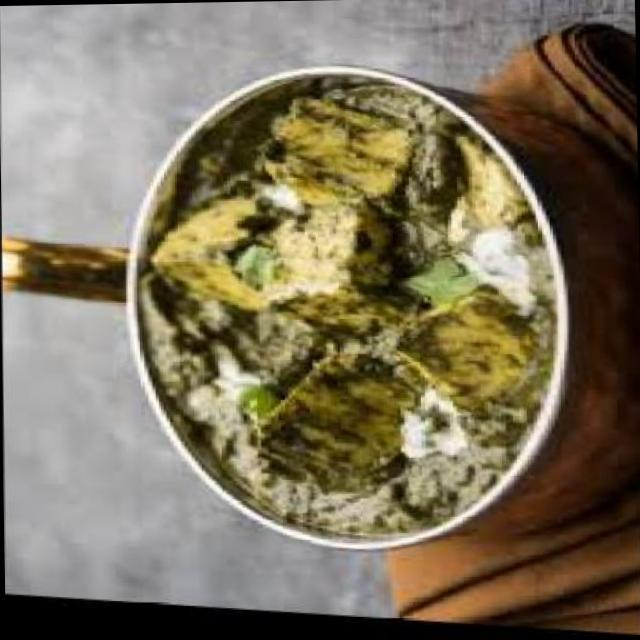palak_paneer: (138, 70, 566, 558)
